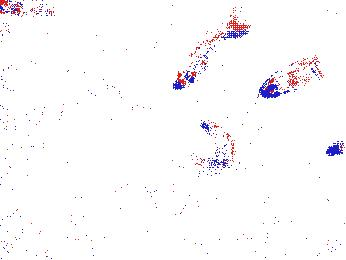X-ray fish: (324, 1, 346, 19)
red belly glassfish: (1, 1, 39, 16)
redtail glassfish: (170, 14, 247, 93), (260, 55, 322, 98), (191, 110, 234, 170)
